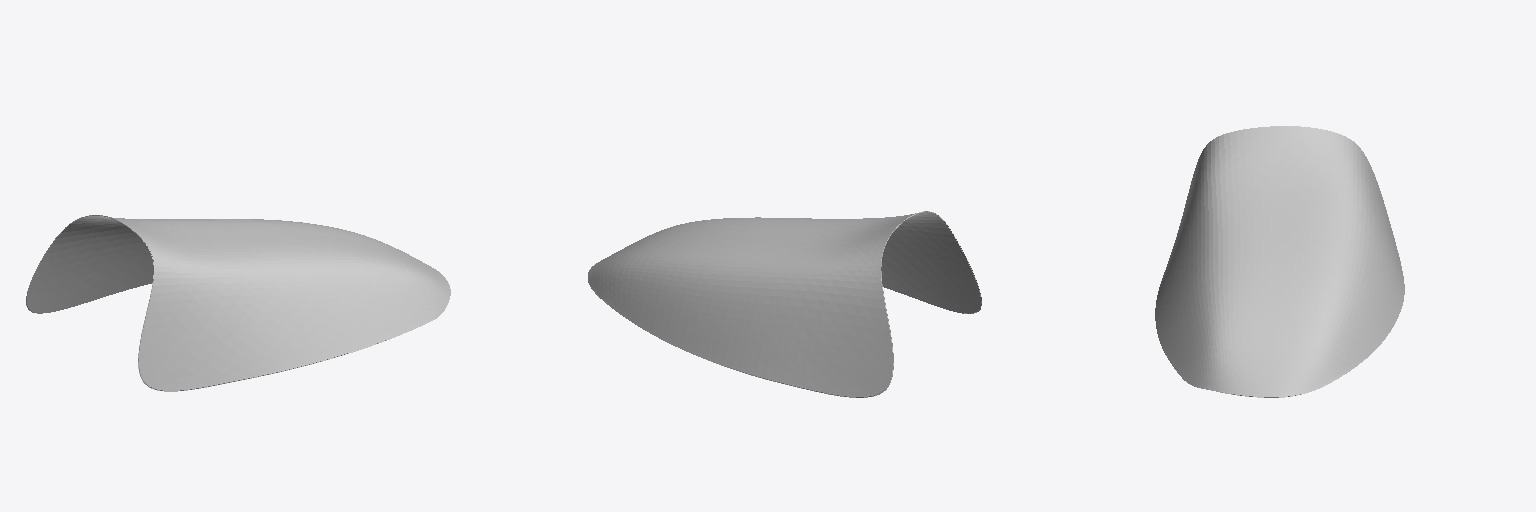
The model's file is frontLeftCream.obj.
The picture shows the model from 3 angles: view 1: azimuth 30°, elevation 25°; view 2: azimuth 150°, elevation 25°; view 3: azimuth 270°, elevation 25°; orthographic projection.
Parts seen in each view (by area): view 1: Plane; view 2: Plane; view 3: Plane.
Boxes of the visible parts, x1,y1,x2,y2 form: Plane: [26, 215, 450, 391]; Plane: [588, 211, 981, 397]; Plane: [1155, 126, 1404, 397].
Size of the model in its own units: 15.97 by 5.59 by 9.72.